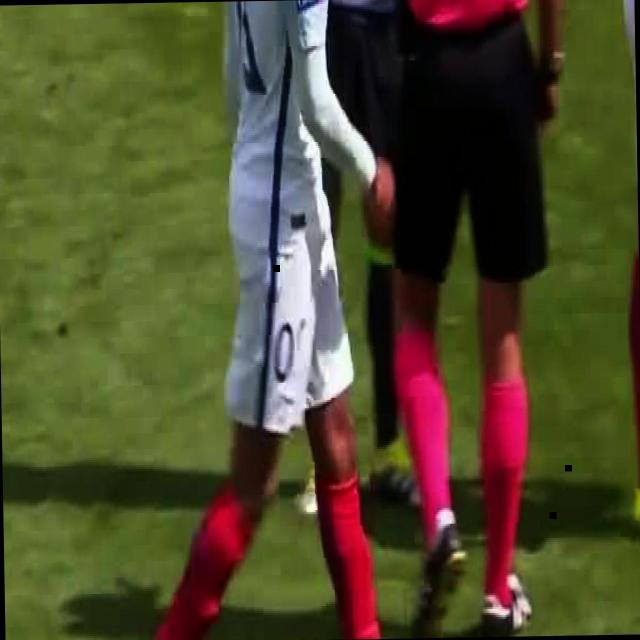player-white: (98, 0, 404, 640), (355, 0, 577, 639), (252, 0, 436, 521), (626, 0, 639, 534)
